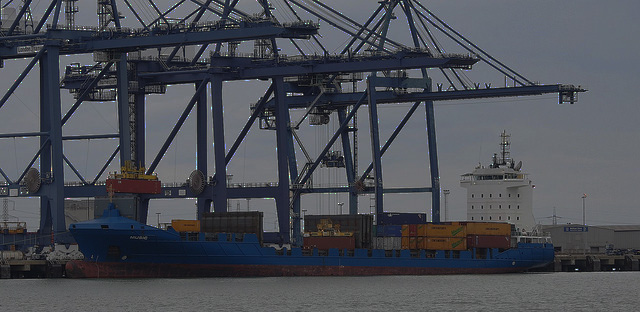container_ship: (64, 132, 560, 276)
